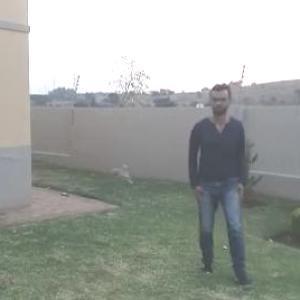follow: (180, 78, 234, 266)
